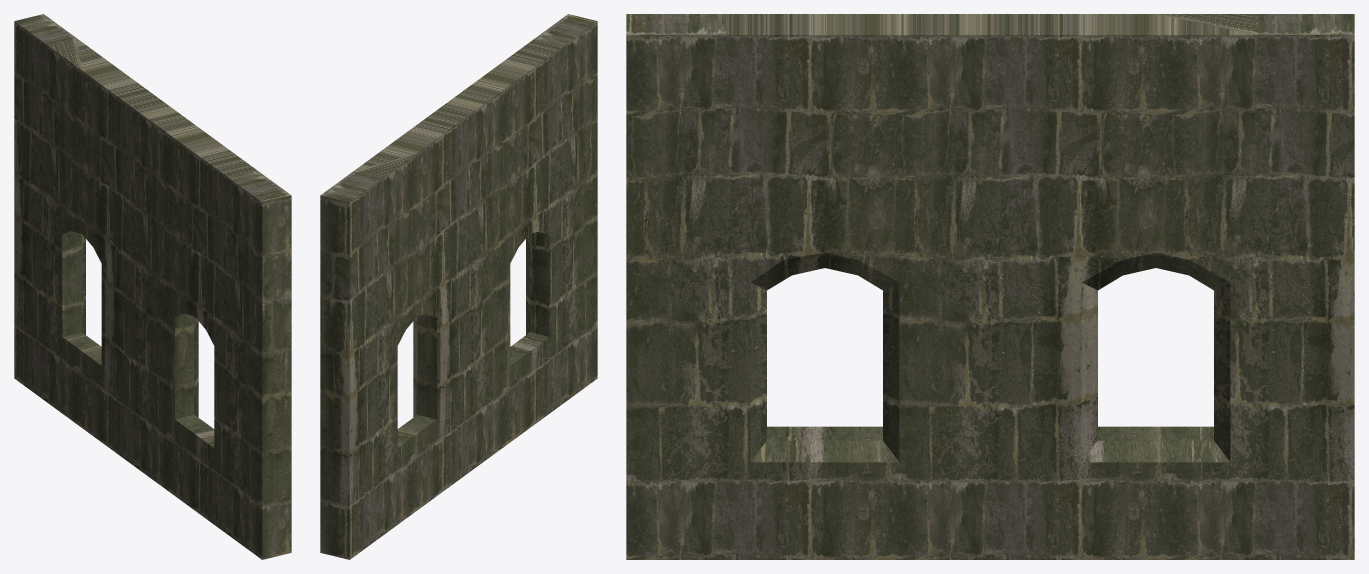
File: Wall_DualWindow.fbx
3 views of the same model, side by side, from view 1: azimuth 30°, elevation 25°; view 2: azimuth 150°, elevation 25°; view 3: azimuth 270°, elevation 25° (orthographic). The views are drawn at different scales.
Parts seen in each view (by area): view 1: Wall_DualWindow; view 2: Wall_DualWindow; view 3: Wall_DualWindow.
Boxes of the visible parts, bbox=[...] form: Wall_DualWindow: bbox=[14, 14, 291, 559]; Wall_DualWindow: bbox=[320, 14, 597, 559]; Wall_DualWindow: bbox=[626, 14, 1354, 559].
Bounding box in the file's own units: 51 × 595 × 748.
